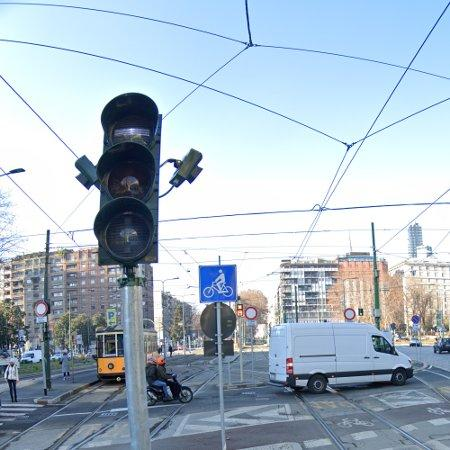traffic lights: (75, 93, 162, 266)
